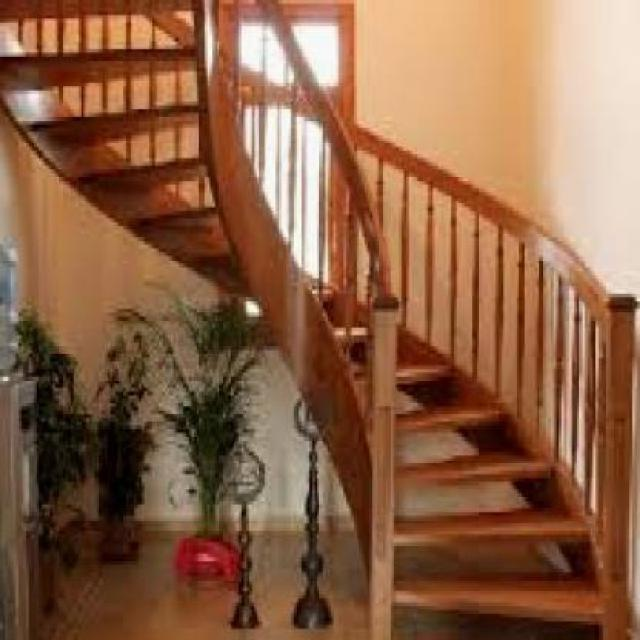stair: (265, 71, 640, 636)
